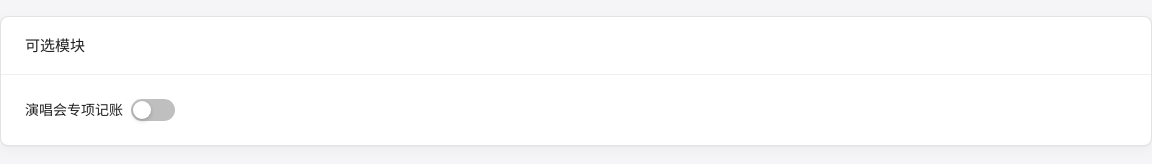
Test: saves the user module setting with its version and refreshes it
Click the switch named "启用演唱会专项记账".
click(153, 110)  # box 131,99 -> 175,121
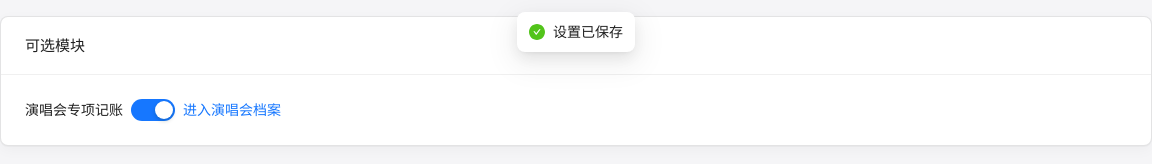
Expected: the link "进入演唱会档案" is shown, 183,101 -> 281,118
